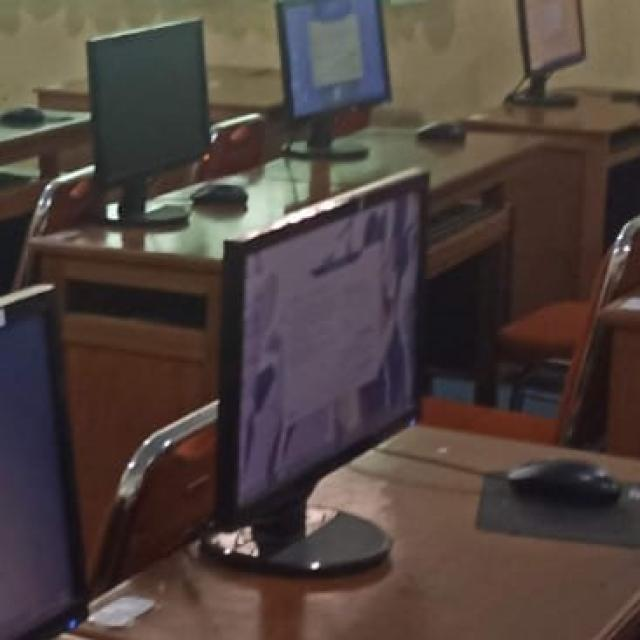offscreen: (88, 20, 209, 182)
onscreen: (219, 169, 428, 522), (278, 0, 390, 118), (519, 0, 585, 96)
